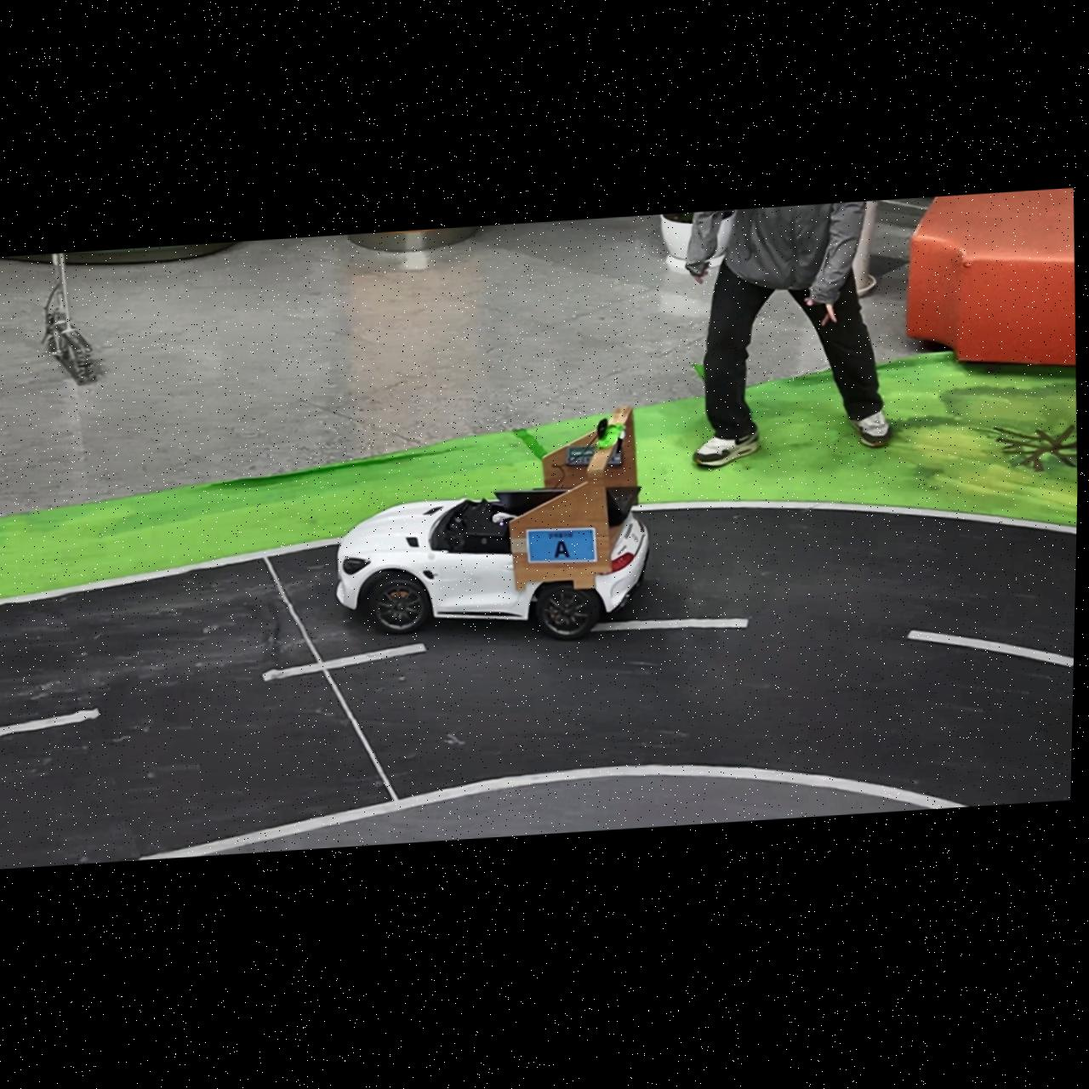broken_line: (262, 643, 426, 681), (907, 630, 1074, 666), (0, 708, 99, 736), (590, 618, 748, 630)
